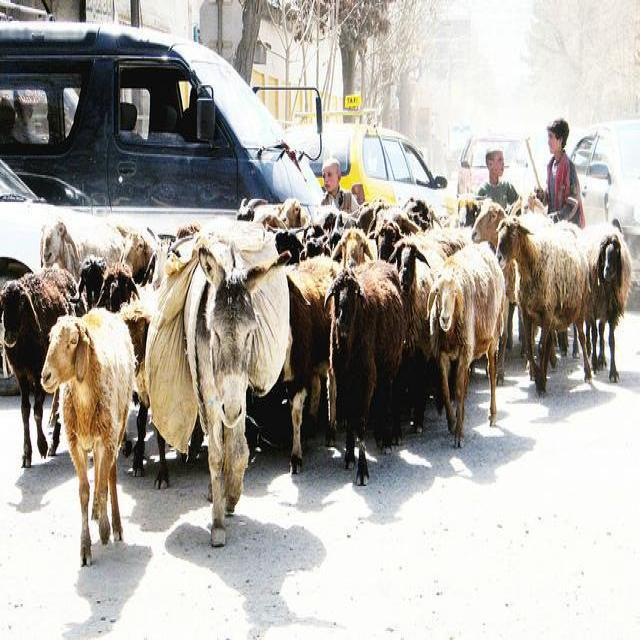Sheep: (40, 305, 137, 568), (320, 251, 406, 492), (0, 268, 86, 470), (496, 220, 594, 393), (426, 242, 507, 449), (471, 199, 553, 359), (393, 232, 454, 432), (584, 218, 634, 383), (40, 217, 81, 284)
